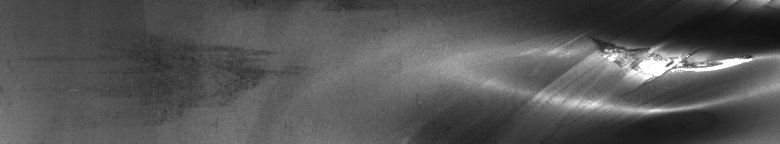ke: (521, 4, 776, 124)
